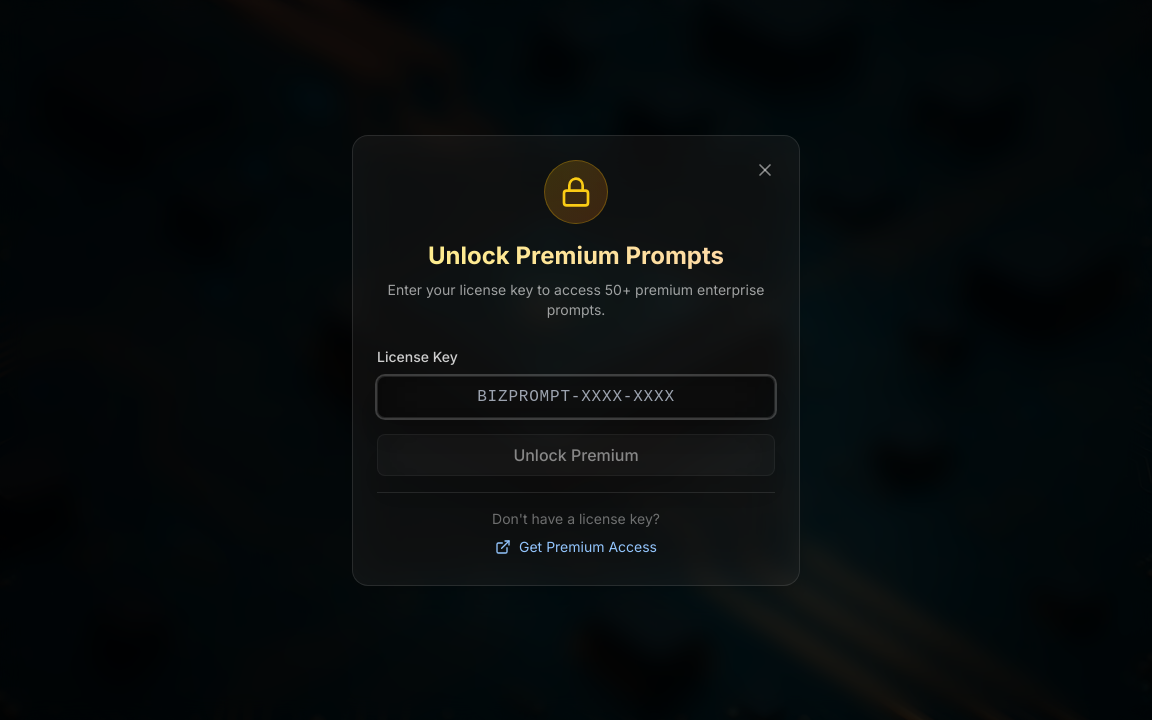
Test case: UnlockModal › form submission › should show loading state when validating
Step 1. Type "VALID-KEY" into the field with placeholder "BIZPROMPT-XXXX-XXXX" → (576, 396), box x1=377 y1=376 x2=775 y2=418
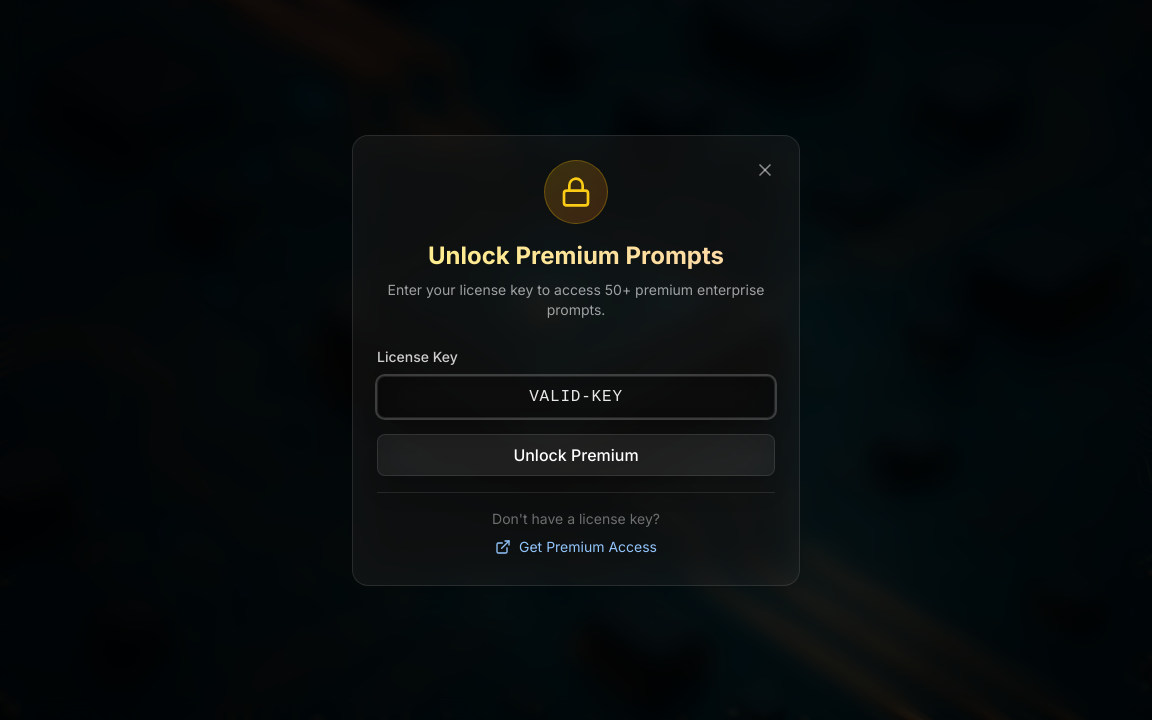
Step 2. Submit the form "Unlock Premium", box x1=377 y1=344 x2=775 y2=560
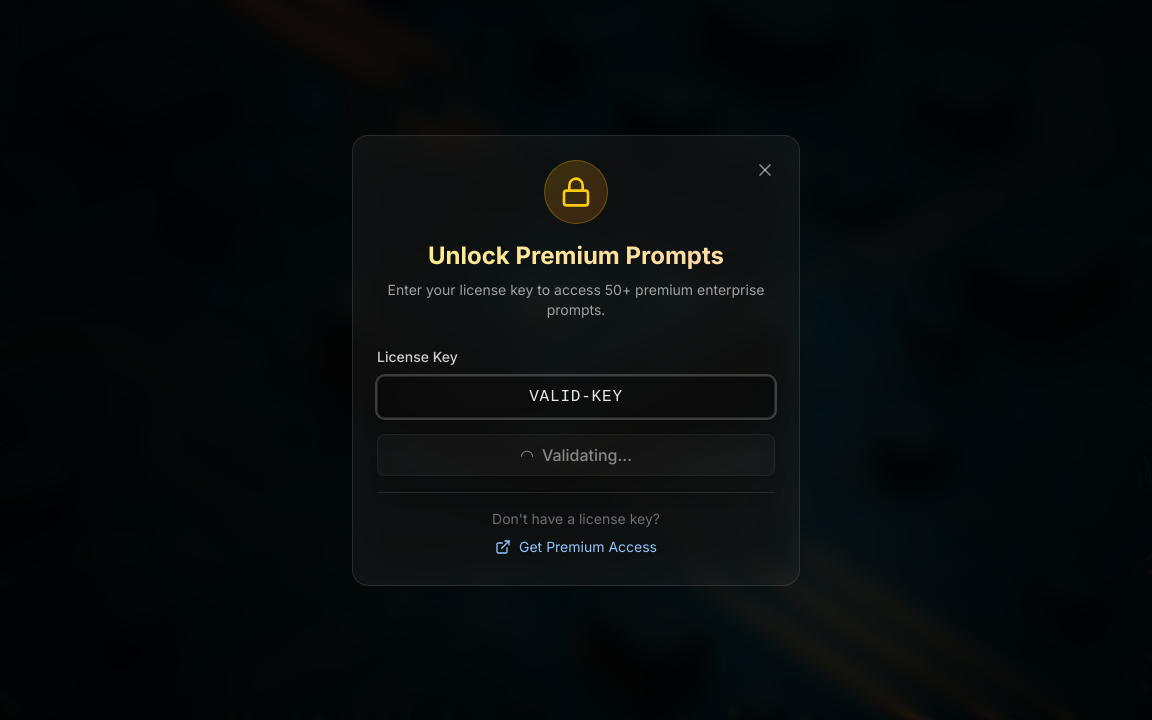
Expected: the button "◠Validating..." is shown, x1=377 y1=434 x2=775 y2=476
